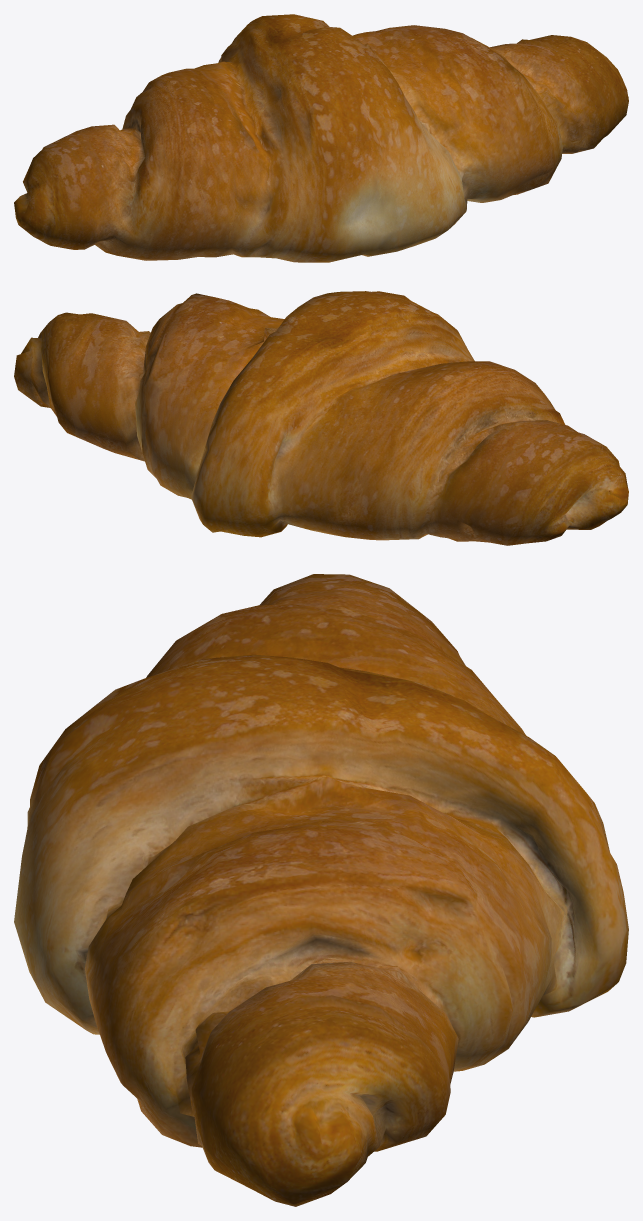
Rendered from crossant.glb.
3 views of the same model, one above another, from view 1: azimuth 30°, elevation 25°; view 2: azimuth 150°, elevation 25°; view 3: azimuth 270°, elevation 25° (orthographic). The views are drawn at different scales.
Parts seen in each view (by area): view 1: Object_2; view 2: Object_2; view 3: Object_2.
Part boxes in pixels (x1,y1,x2,y2): Object_2: (14, 14, 628, 262); Object_2: (14, 291, 628, 545); Object_2: (14, 574, 628, 1206).
Bounding box in the file's own units: 0.1619 × 0.0443 × 0.0821.
Materials: 1 (1 with a texture image).
